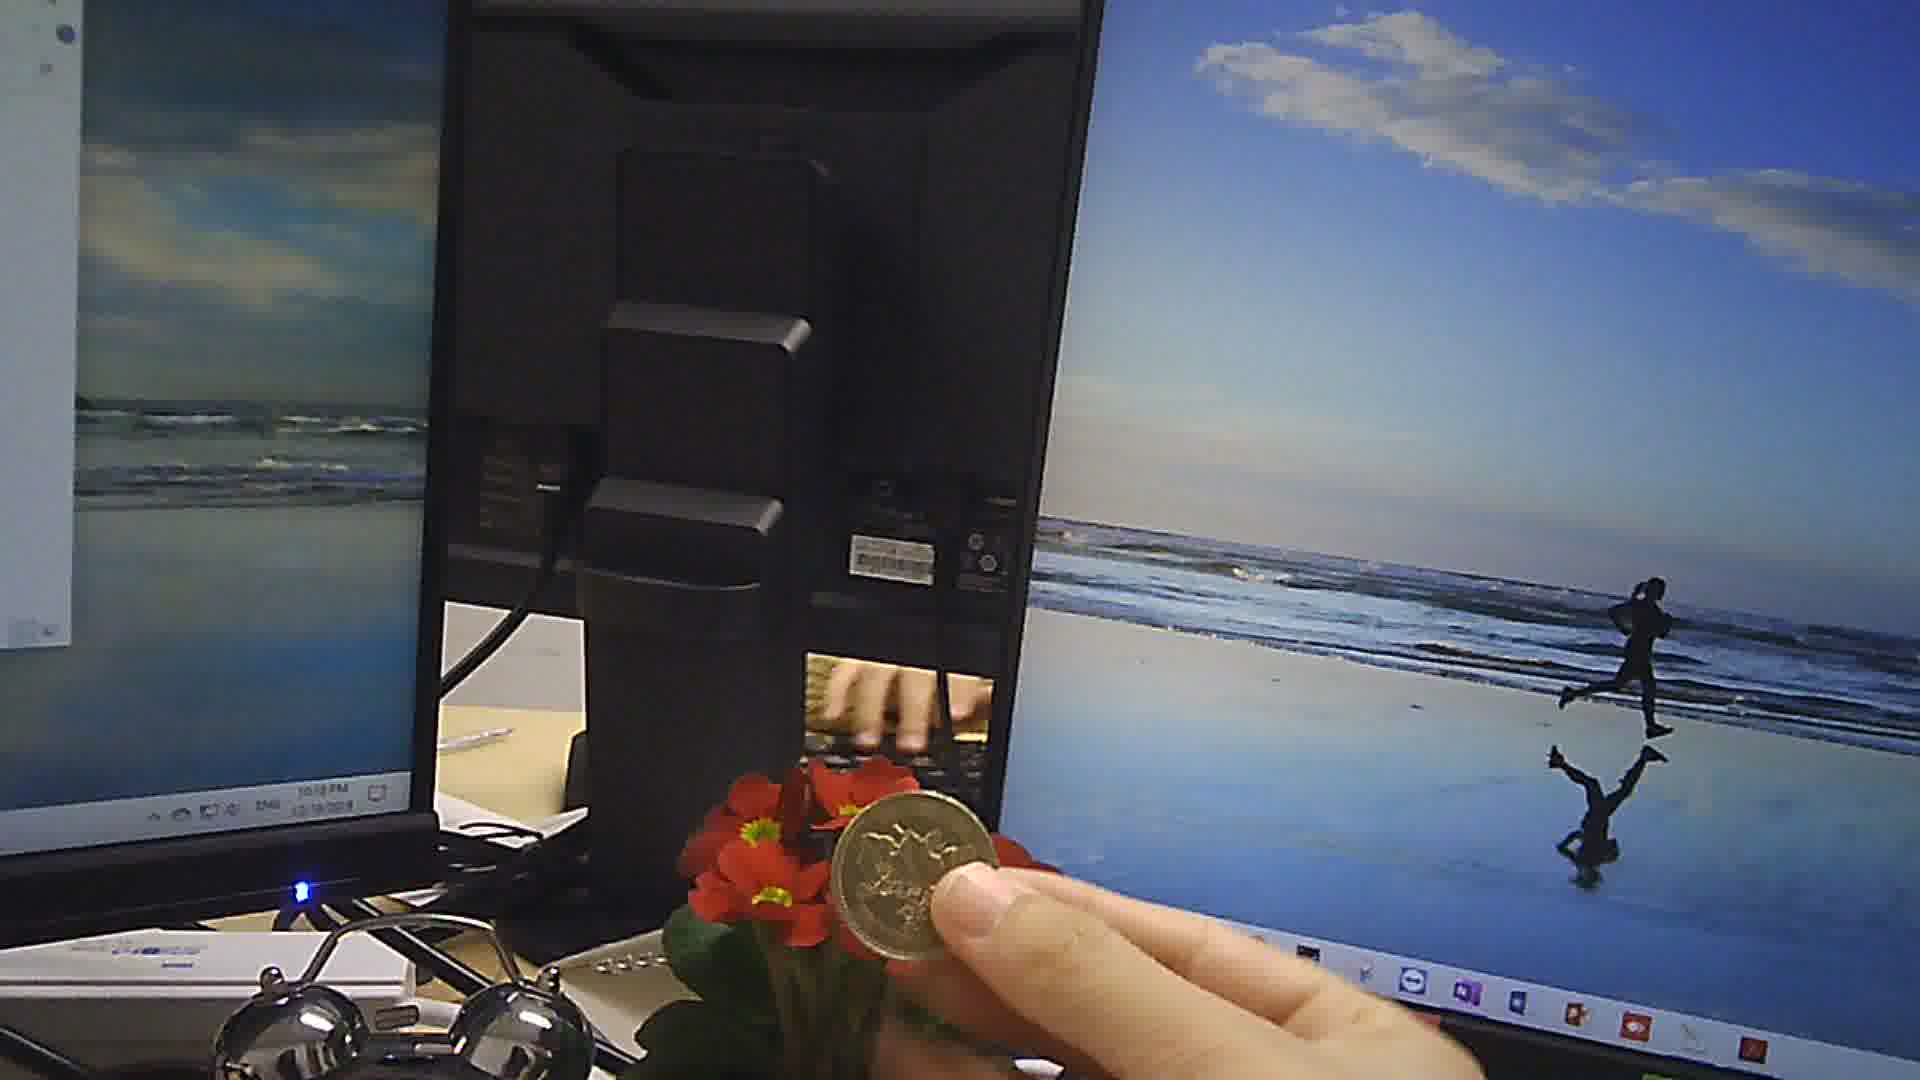500 Yen: (828, 782, 1000, 959)
